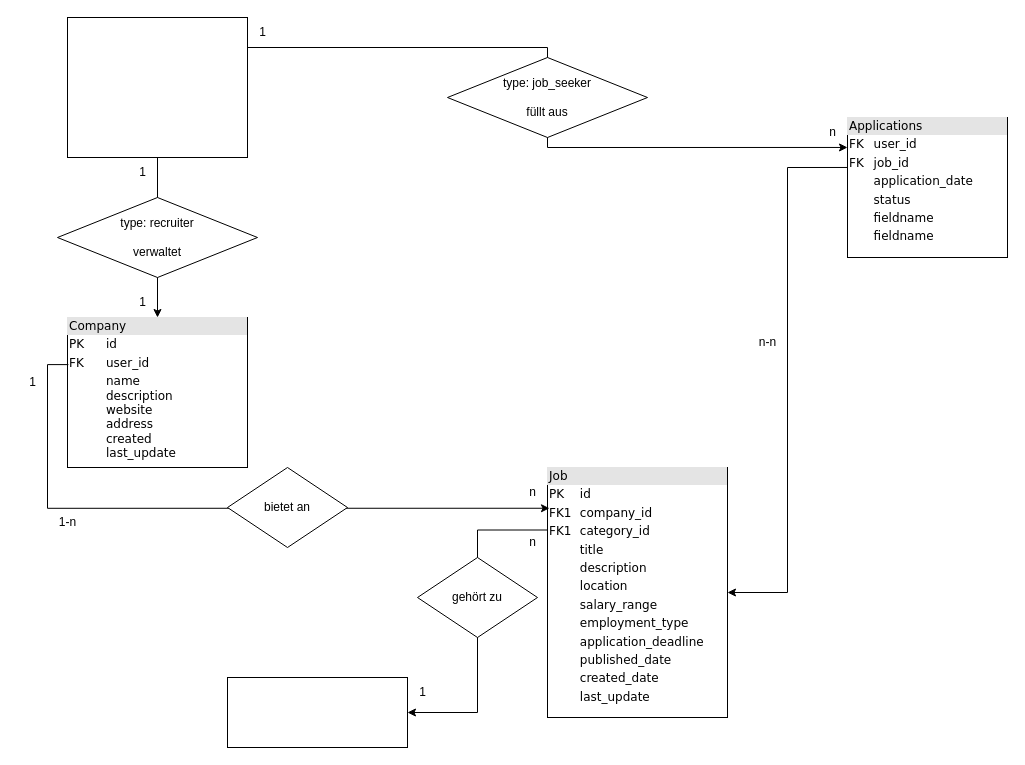
Image size: 1025x765. Some labels were removed from this diagram. The shapes that lost their labels are listed below. From the top down, each one's centre as x and y in pixels, then its label:
At (157,87): "User PK id name email password created last_update user_type".
At (317,712): "Category PK id name".
